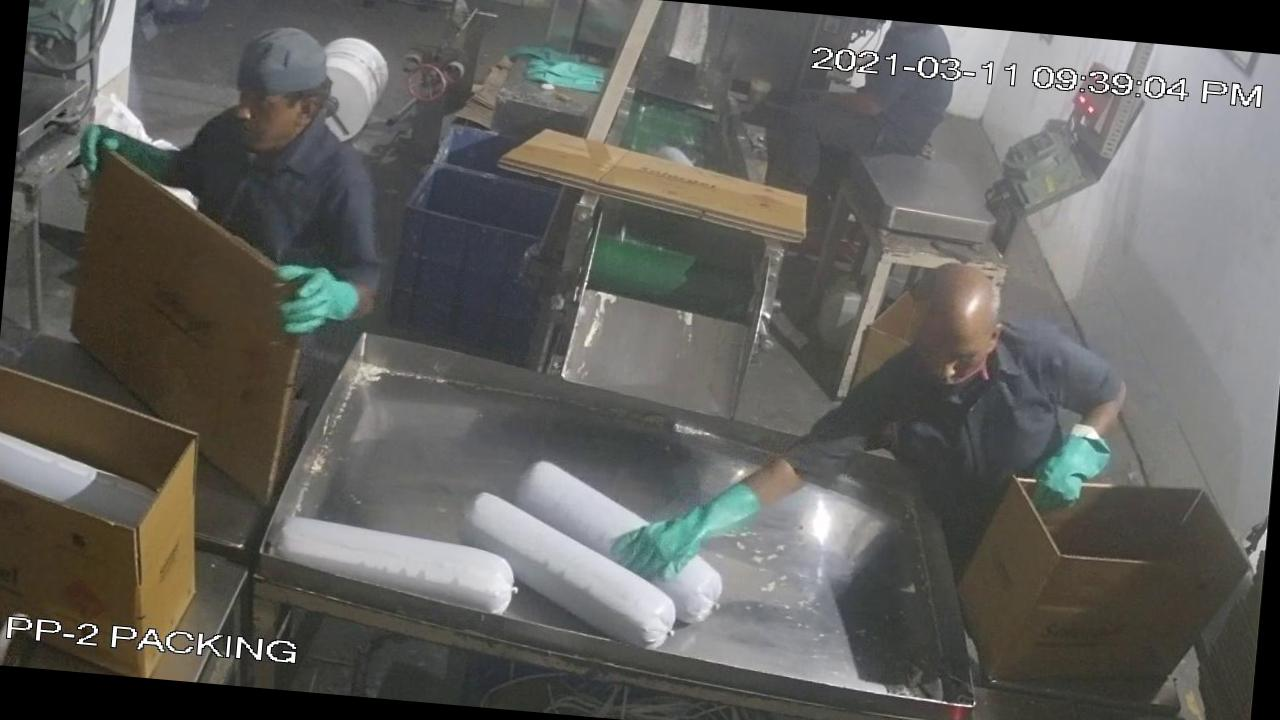Gloves: (612, 454, 769, 590), (1018, 409, 1124, 538)
